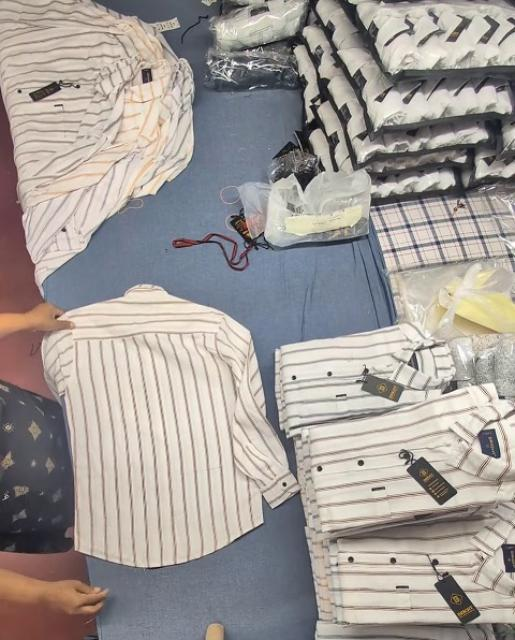new-garment: (42, 285, 297, 567)
